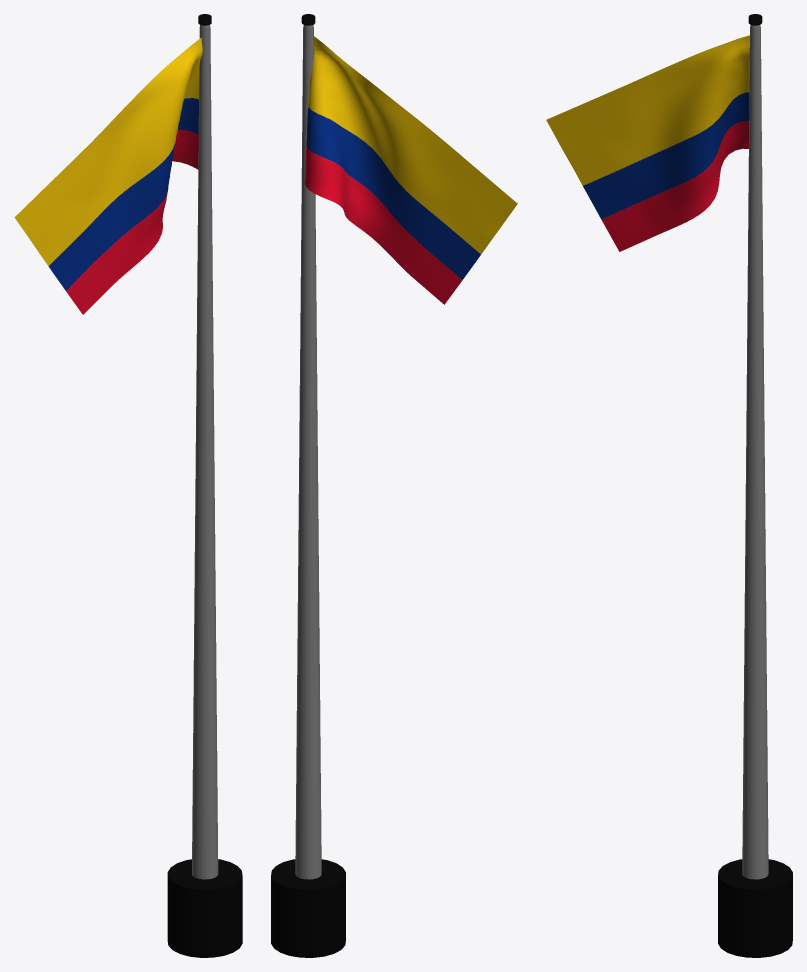
The model's file is bandera2.glb.
The picture shows the model from 3 angles, left to right: view 1: azimuth 30°, elevation 25°; view 2: azimuth 150°, elevation 25°; view 3: azimuth 330°, elevation 25°; orthographic projection.
Visible parts, largest first — view 1: objFlag; view 2: objFlag; view 3: objFlag.
Boxes of the visible parts, x1,y1,x2,y2 form: objFlag: (14, 14, 242, 957); objFlag: (271, 14, 517, 957); objFlag: (546, 14, 792, 957).
Size of the model in its own units: 2.46 by 9.37 by 0.7401.
Materials: 1 (1 with a texture image).
